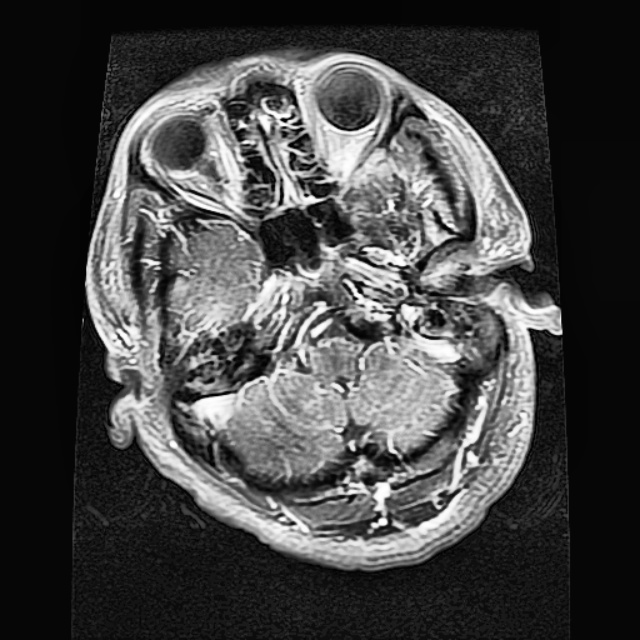Pituitary: (339, 175, 423, 254)
